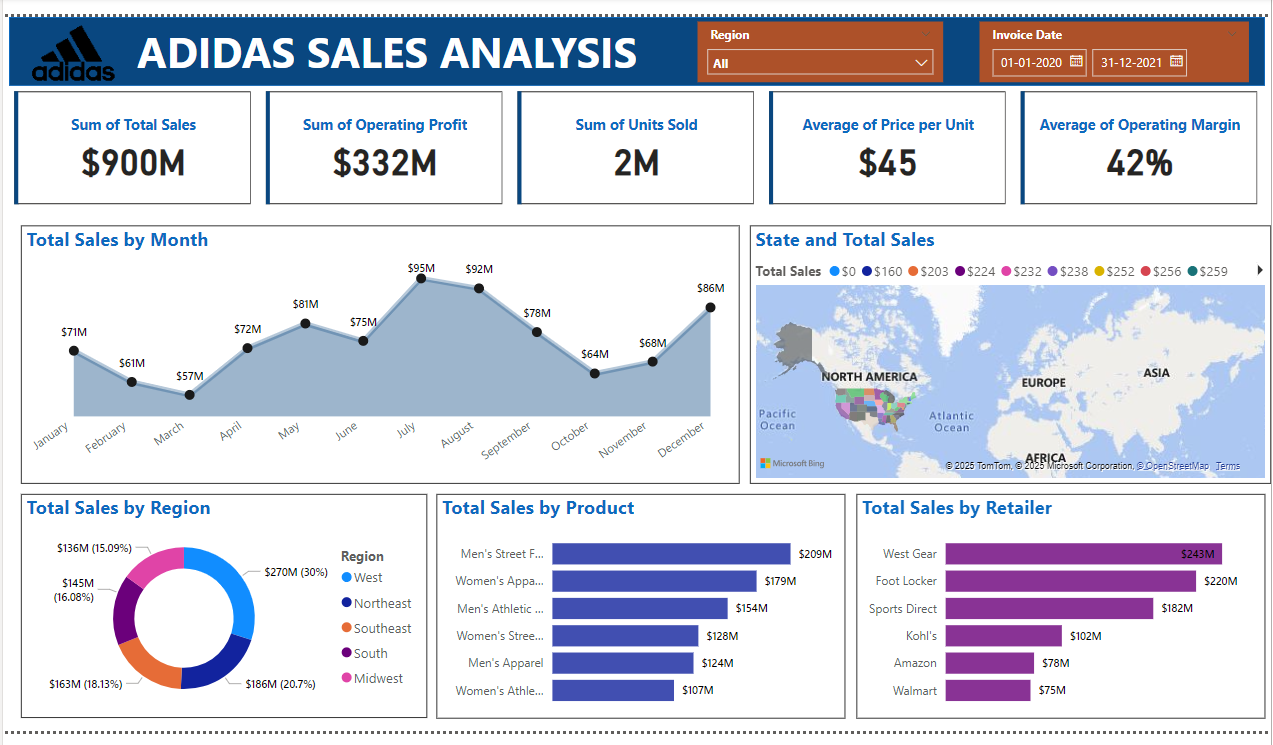

The dashboard page shown, as its layout file describes it:
{"tool":"powerbi","page":{"name":"Page 1","canvas":[1280,720],"ordinal":0},"visuals":[{"type":"shape","box":[6.5,0,1267.9,69.6],"z":0},{"type":"textbox","box":[129.5,0,540.8,76.1],"z":1000},{"type":"cardVisual","fields":{"Data":["Sum(Data Sales Adidas.Total Sales)","Sum(Data Sales Adidas.Operating Profit)","Sum(Data Sales Adidas.Units Sold)","Avg(Data Sales Adidas.Price per Unit)","Avg(Data Sales Adidas.Operating Margin)"]},"box":[6.5,69.6,1267.9,124.7],"z":2000},{"type":"areaChart","title":" Total Sales by Month","fields":{"Category":["Data Sales Adidas.Invoice Date.Variation.Date Hierarchy.Month"],"Y":["Sum(Data Sales Adidas.Total Sales)"]},"box":[17.8,210.5,725.4,260.7],"z":3000},{"type":"filledMap","fields":{"Category":["Data Sales Adidas.State"],"Series":["Data Sales Adidas.Total Sales"]},"box":[754.6,210.5,526.2,260.7],"z":4000},{"type":"donutChart","fields":{"Category":["Data Sales Adidas.Region"],"Y":["Sum(Data Sales Adidas.Total Sales)"]},"box":[17.8,480.9,410,226],"z":5000},{"type":"barChart","fields":{"Y":["Sum(Data Sales Adidas.Total Sales)"],"Category":["Data Sales Adidas.Product"]},"box":[437.2,480.9,412.9,226.7],"z":6000},{"type":"barChart","fields":{"Y":["Sum(Data Sales Adidas.Total Sales)"],"Category":["Data Sales Adidas.Retailer"]},"box":[861.4,480.9,412.9,226.7],"z":7000},{"type":"slicer","fields":{"Values":["Data Sales Adidas.Region"]},"box":[701.1,4.9,247.7,61.5],"z":8000},{"type":"slicer","fields":{"Values":["Data Sales Adidas.Invoice Date"]},"box":[986.1,4.9,272,61.5],"z":9000},{"type":"image","box":[6.5,3.2,129.5,66.4],"z":10000}]}

Visuals, with their boxes in screenshot pixels (x1, y1, x2, y2):
shape: box=[13, 13, 1257, 82]
textbox: box=[134, 13, 664, 88]
cardVisual - Sum(Data Sales Adidas.Total Sales) x Sum(Data Sales Adidas.Operating Profit): box=[13, 82, 1257, 204]
" Total Sales by Month" areaChart: box=[24, 220, 736, 475]
filledMap - Data Sales Adidas.State x Data Sales Adidas.Total Sales: box=[747, 220, 1263, 475]
donutChart - Data Sales Adidas.Region x Sum(Data Sales Adidas.Total Sales): box=[24, 485, 426, 707]
barChart - Sum(Data Sales Adidas.Total Sales) x Data Sales Adidas.Product: box=[435, 485, 840, 707]
barChart - Sum(Data Sales Adidas.Total Sales) x Data Sales Adidas.Retailer: box=[851, 485, 1256, 707]
slicer - Data Sales Adidas.Region: box=[694, 18, 937, 78]
slicer - Data Sales Adidas.Invoice Date: box=[974, 18, 1241, 78]
image: box=[13, 16, 140, 82]
